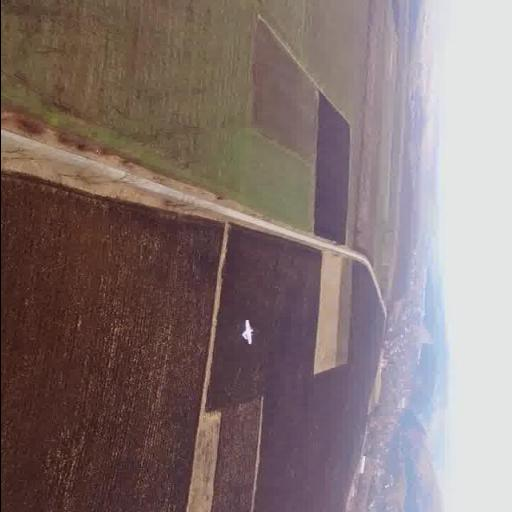uav: (227, 314, 262, 348)
